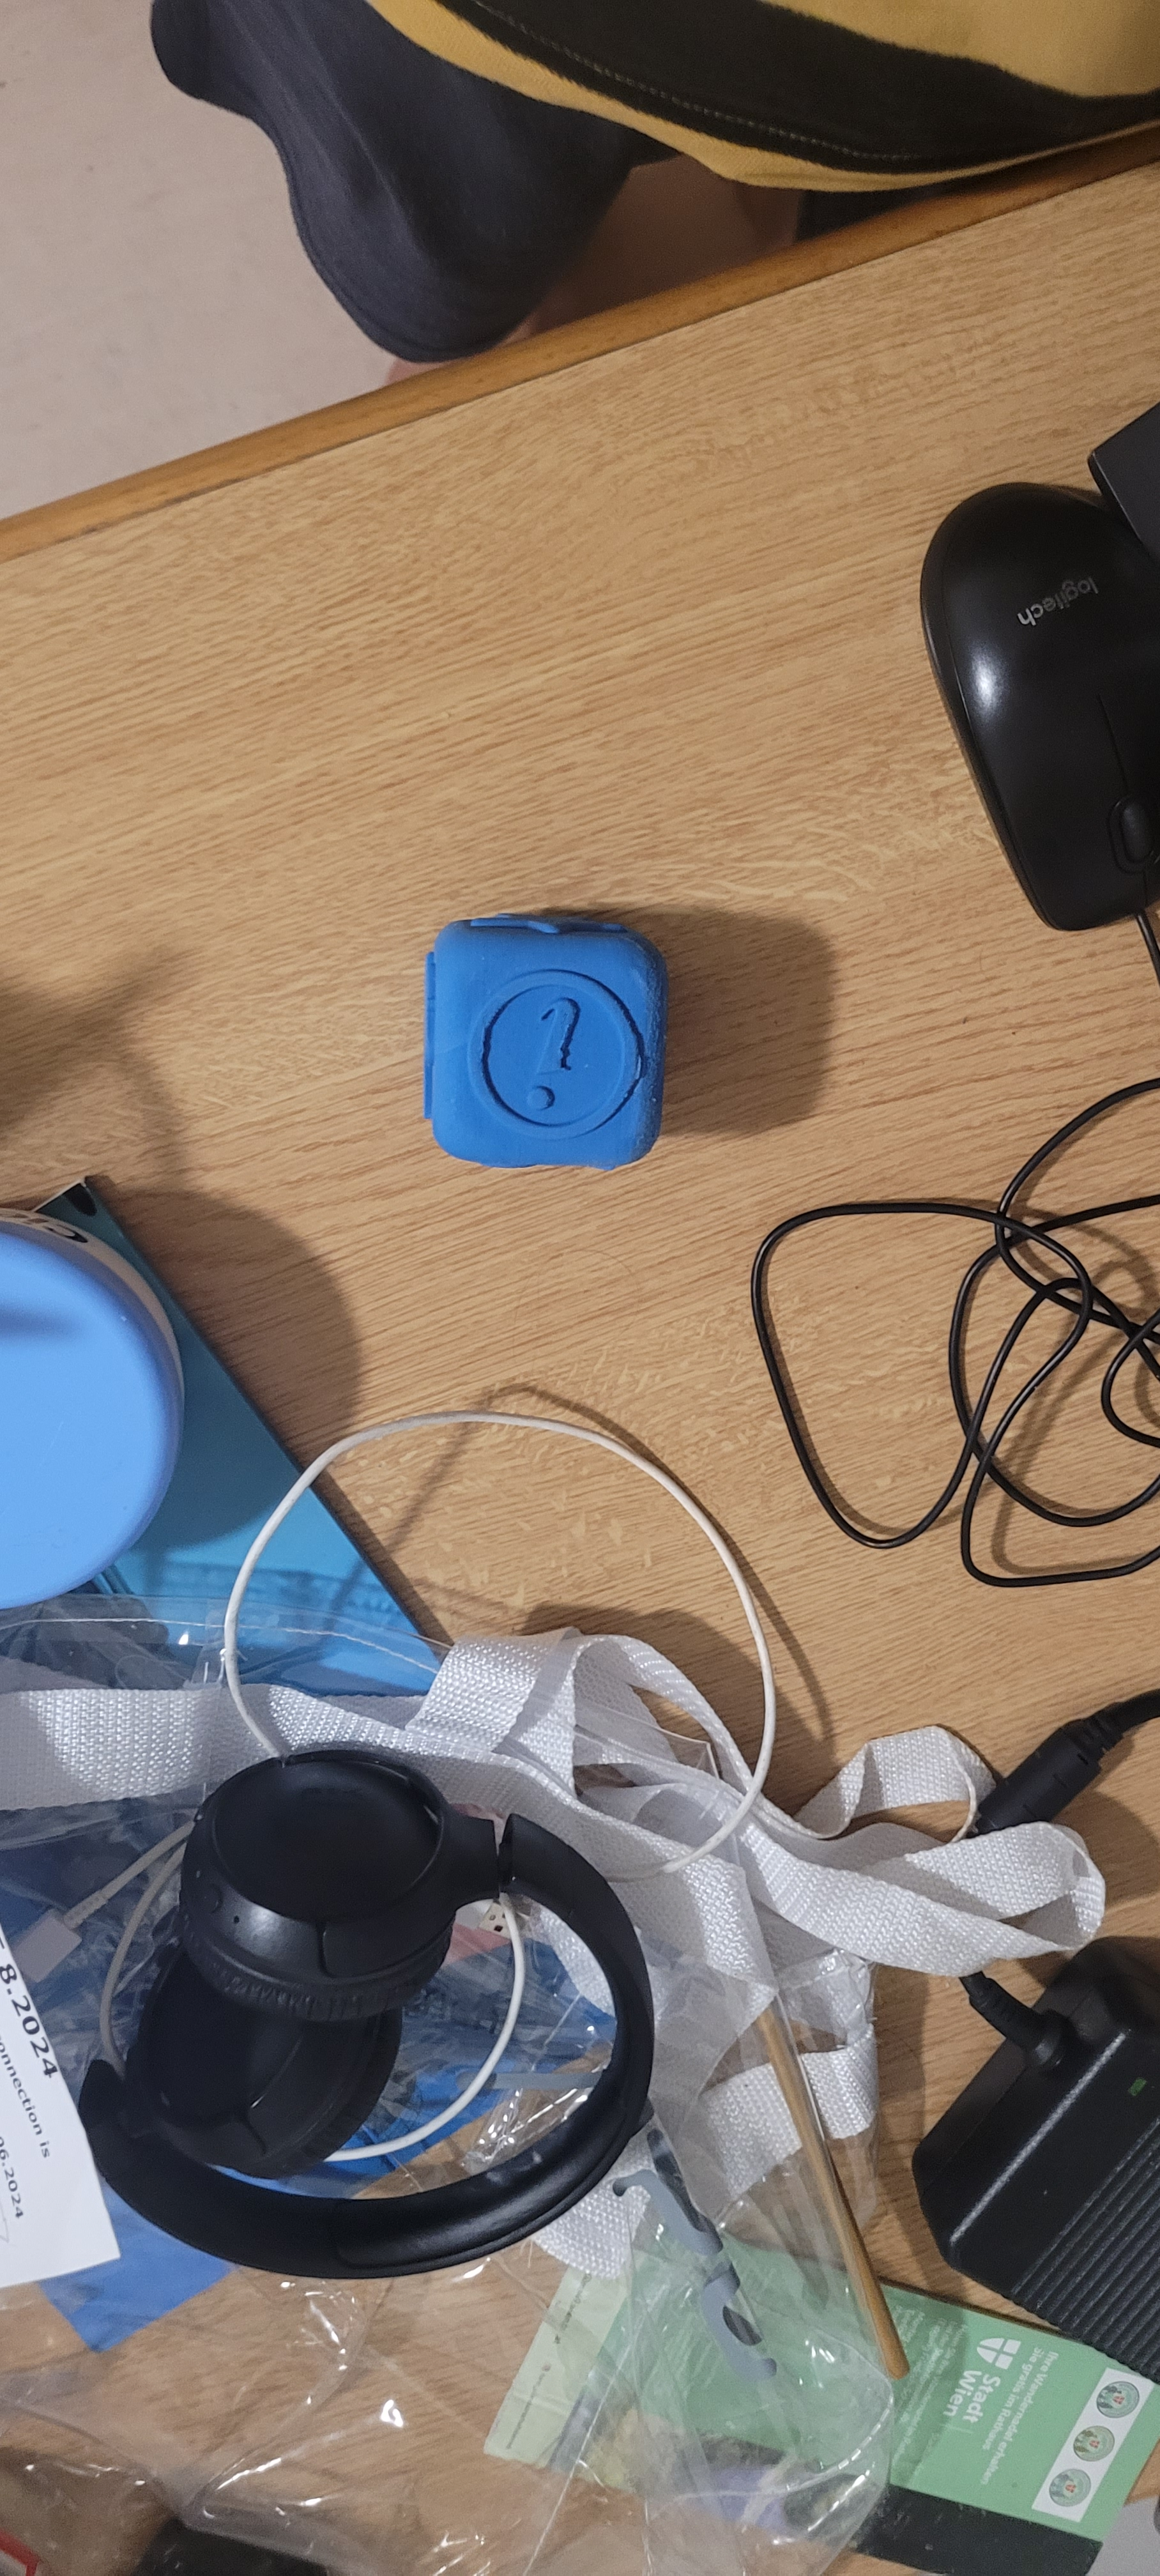Info: (463, 966, 652, 1165)
